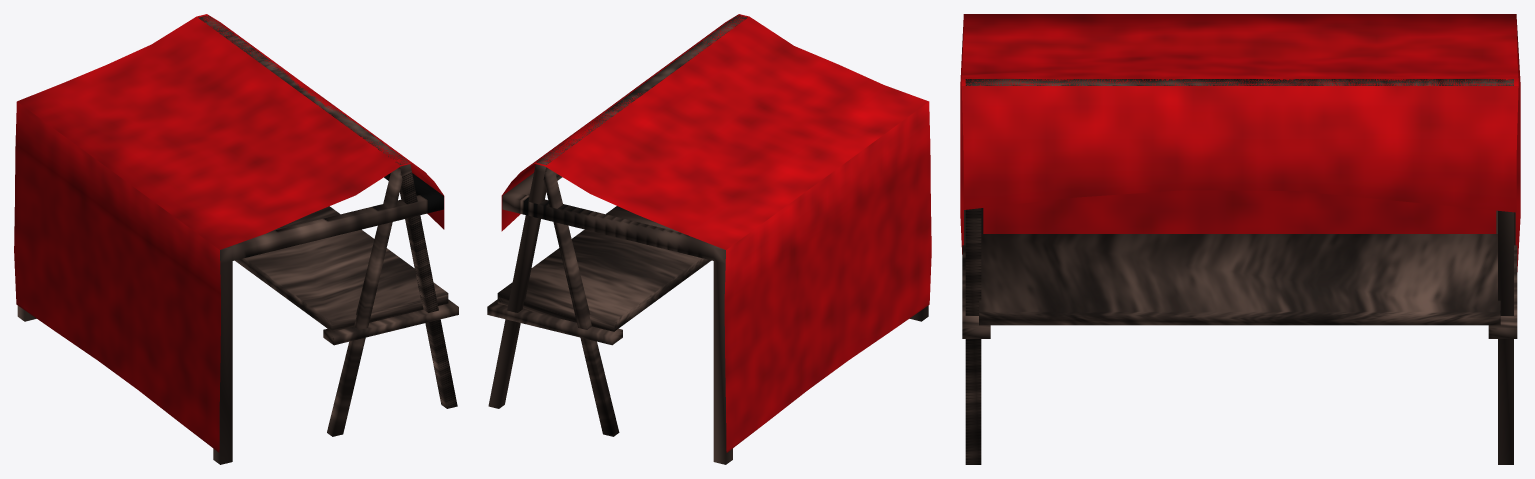
Rendered from StandRed.glb.
3 renders of one model, left to right at view 1: azimuth 30°, elevation 25°; view 2: azimuth 150°, elevation 25°; view 3: azimuth 270°, elevation 25°, orthographic. The views are drawn at different scales.
Visible parts, largest first — view 1: Cube; view 2: Cube; view 3: Cube.
Part boxes in pixels (<box>): Cube: <box>14,14,458,464</box>; Cube: <box>487,14,931,464</box>; Cube: <box>960,14,1520,464</box>.
Size of the model in its own units: 7.43 by 7.54 by 11.01.
2 materials, 2 textured.
